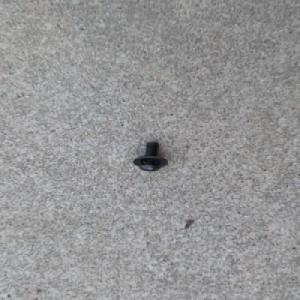BoltWasher: (132, 140, 169, 172)
